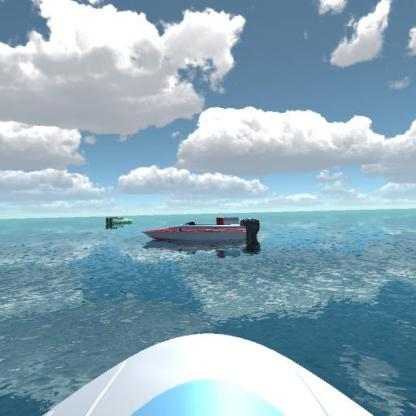usv0: (104, 210, 133, 230)
usv3: (142, 214, 262, 259)
